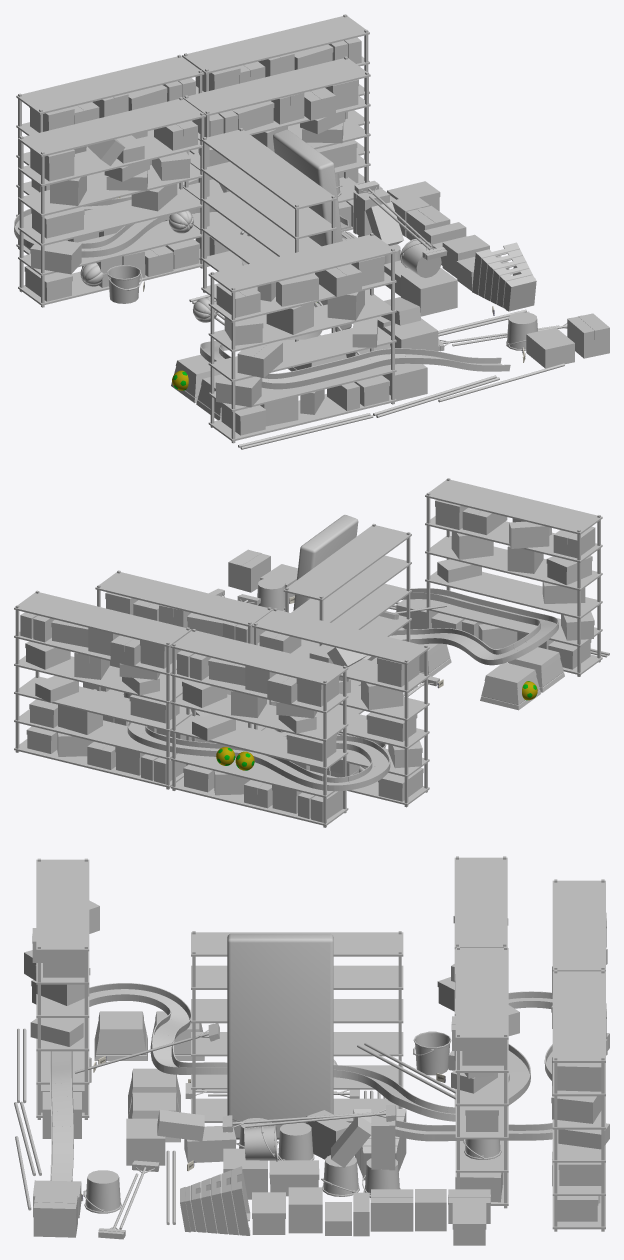
The model's file is jalan.fbx.
3 renders of one model, top to bottom at view 1: azimuth 30°, elevation 25°; view 2: azimuth 150°, elevation 25°; view 3: azimuth 270°, elevation 25°, orthographic. The views are drawn at different scales.
Parts seen in each view (by area): view 1: rak.004, rak.003, rak.005, rak.006, jalan, rak.001, rak.007, Cube.004, matras.001, Cube.034, Cube.033, box 5.012 (+50 smaller); view 2: rak.001, rak.003, rak.007, rak.004, rak.005, jalan, rak.006, matras.001, Cube.008, box 5.012, Cube.007, box 3.019 (+55 smaller); view 3: matras.001, rak.005, jalan, rak.006, rak.007, rak.003, rak.004, rak.001, Cube.004, Cube.007, box 5.012, box 5.005 (+43 smaller).
Part boxes in pixels (bbox=[...]): rak.004: bbox=[18, 97, 205, 307]; rak.003: bbox=[208, 233, 396, 443]; rak.005: bbox=[201, 128, 336, 344]; rak.006: bbox=[183, 56, 370, 266]; jalan: bbox=[14, 177, 510, 389]; rak.001: bbox=[16, 54, 204, 254]; rak.007: bbox=[182, 14, 369, 213]; Cube.004: bbox=[472, 242, 536, 311]; matras.001: bbox=[273, 129, 351, 331]; Cube.034: bbox=[401, 268, 457, 316]; Cube.033: bbox=[526, 327, 574, 368]; box 5.012: bbox=[567, 313, 609, 358]; rak.001: bbox=[170, 629, 348, 827]; rak.003: bbox=[425, 478, 602, 676]; rak.007: bbox=[14, 590, 191, 789]; rak.004: bbox=[252, 608, 429, 807]; rak.005: bbox=[283, 523, 411, 714]; jalan: bbox=[127, 588, 558, 791]; rak.006: bbox=[95, 570, 272, 740]; matras.001: bbox=[293, 515, 358, 610]; Cube.008: bbox=[480, 662, 540, 710]; box 5.012: bbox=[228, 549, 270, 592]; Cube.007: bbox=[508, 647, 564, 692]; box 3.019: bbox=[366, 712, 417, 741]; matras.001: bbox=[227, 933, 333, 1139]; rak.005: bbox=[191, 931, 403, 1122]; jalan: bbox=[50, 983, 552, 1181]; rak.006: bbox=[455, 946, 508, 1208]; rak.007: bbox=[552, 970, 605, 1231]; rak.003: bbox=[36, 858, 89, 1119]; rak.004: bbox=[454, 856, 507, 1107]; rak.001: bbox=[552, 879, 605, 971]; Cube.004: bbox=[180, 1166, 250, 1235]; Cube.007: bbox=[94, 1011, 147, 1060]; box 5.012: bbox=[33, 1194, 77, 1237]; box 5.005: bbox=[370, 1189, 413, 1231].
Bounding box in the file's own units: 487 × 202 × 561.
